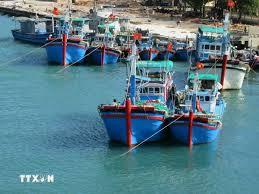Ship: (99, 44, 176, 147), (189, 14, 250, 90), (170, 70, 227, 146), (47, 23, 88, 67), (13, 18, 55, 45), (87, 34, 121, 66)
